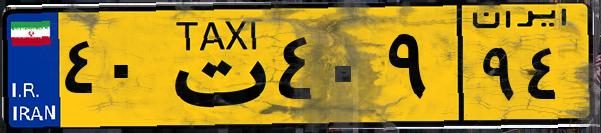0: (330, 28, 385, 110), (110, 28, 158, 98)
4: (270, 28, 330, 110), (57, 26, 110, 100), (525, 38, 570, 115)
9: (385, 28, 445, 110), (475, 38, 525, 113)
ت: (158, 12, 270, 120)
